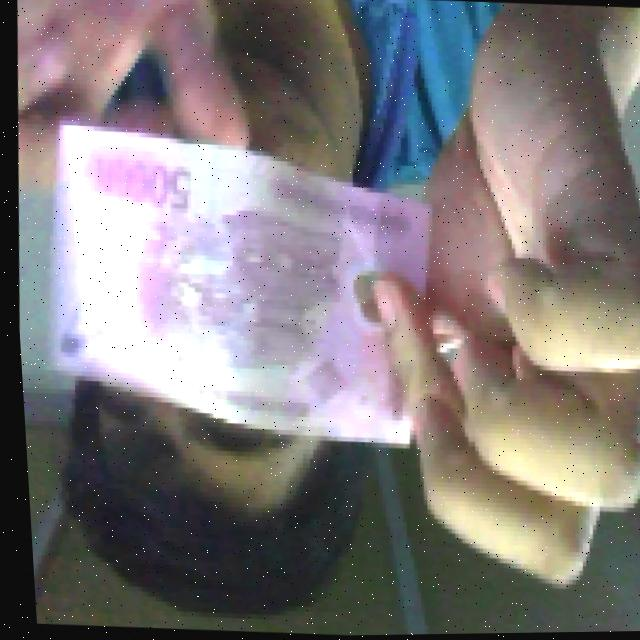50 000 VND: (26, 110, 450, 459)
